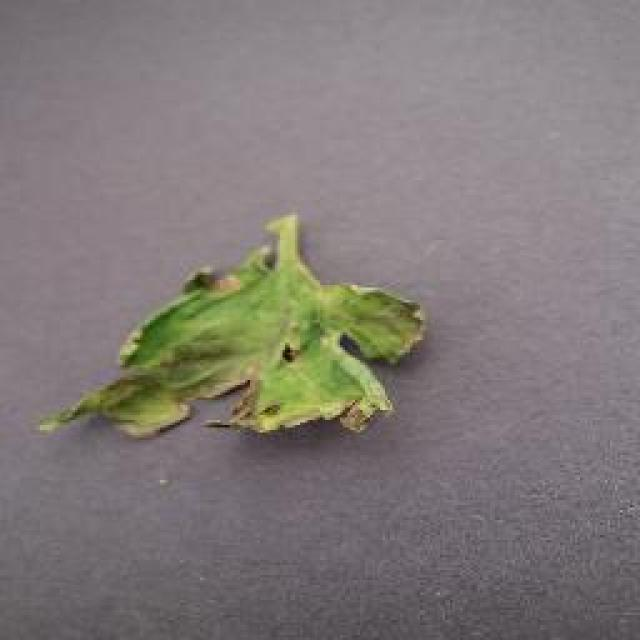Tomato Late Blight: (85, 230, 388, 453)
